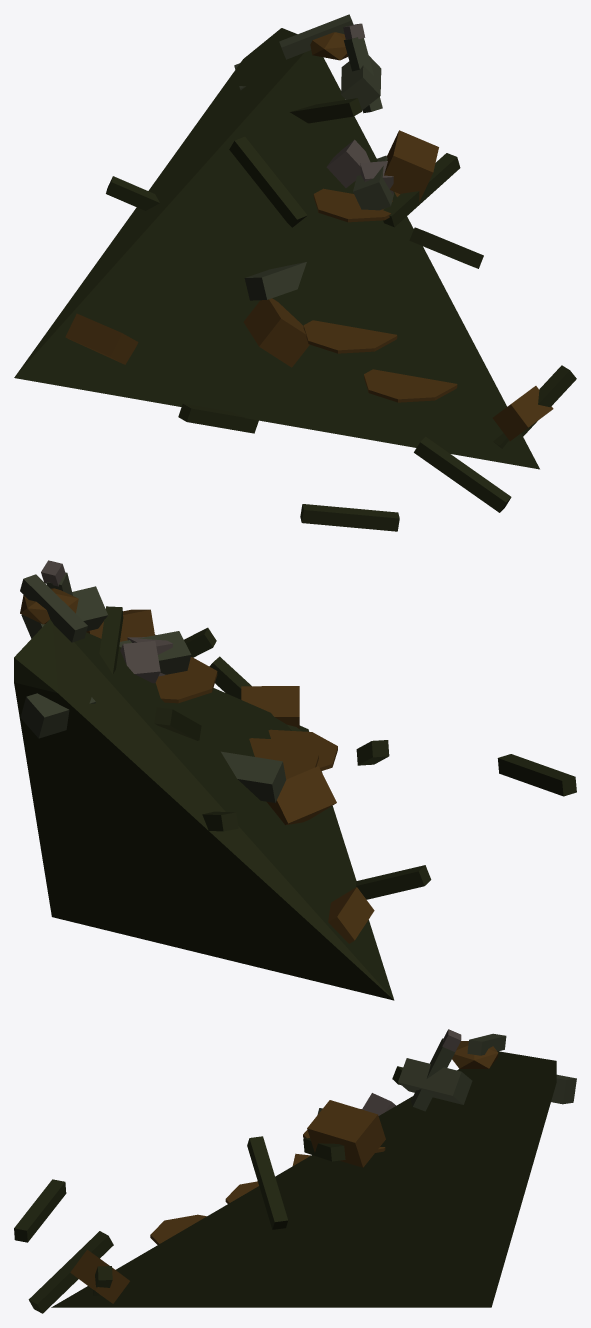
File: SM_PilaZombi_RemateIzq_Altura5_s1_LOD1.fbx
3 views of the same model, one above another, from view 1: azimuth 30°, elevation 25°; view 2: azimuth 150°, elevation 25°; view 3: azimuth 270°, elevation 25° (orthographic). The views are drawn at different scales.
Parts seen in each view (by area): view 1: SM_pila_zombis_v9_LOD1; view 2: SM_pila_zombis_v9_LOD1; view 3: SM_pila_zombis_v9_LOD1.
Boxes of the visible parts, <box> form: SM_pila_zombis_v9_LOD1: <box>14,14,576,531</box>; SM_pila_zombis_v9_LOD1: <box>14,560,576,1000</box>; SM_pila_zombis_v9_LOD1: <box>14,1029,576,1313</box>.
Bounding box in the file's own units: 3.48 × 2.88 × 4.75.
